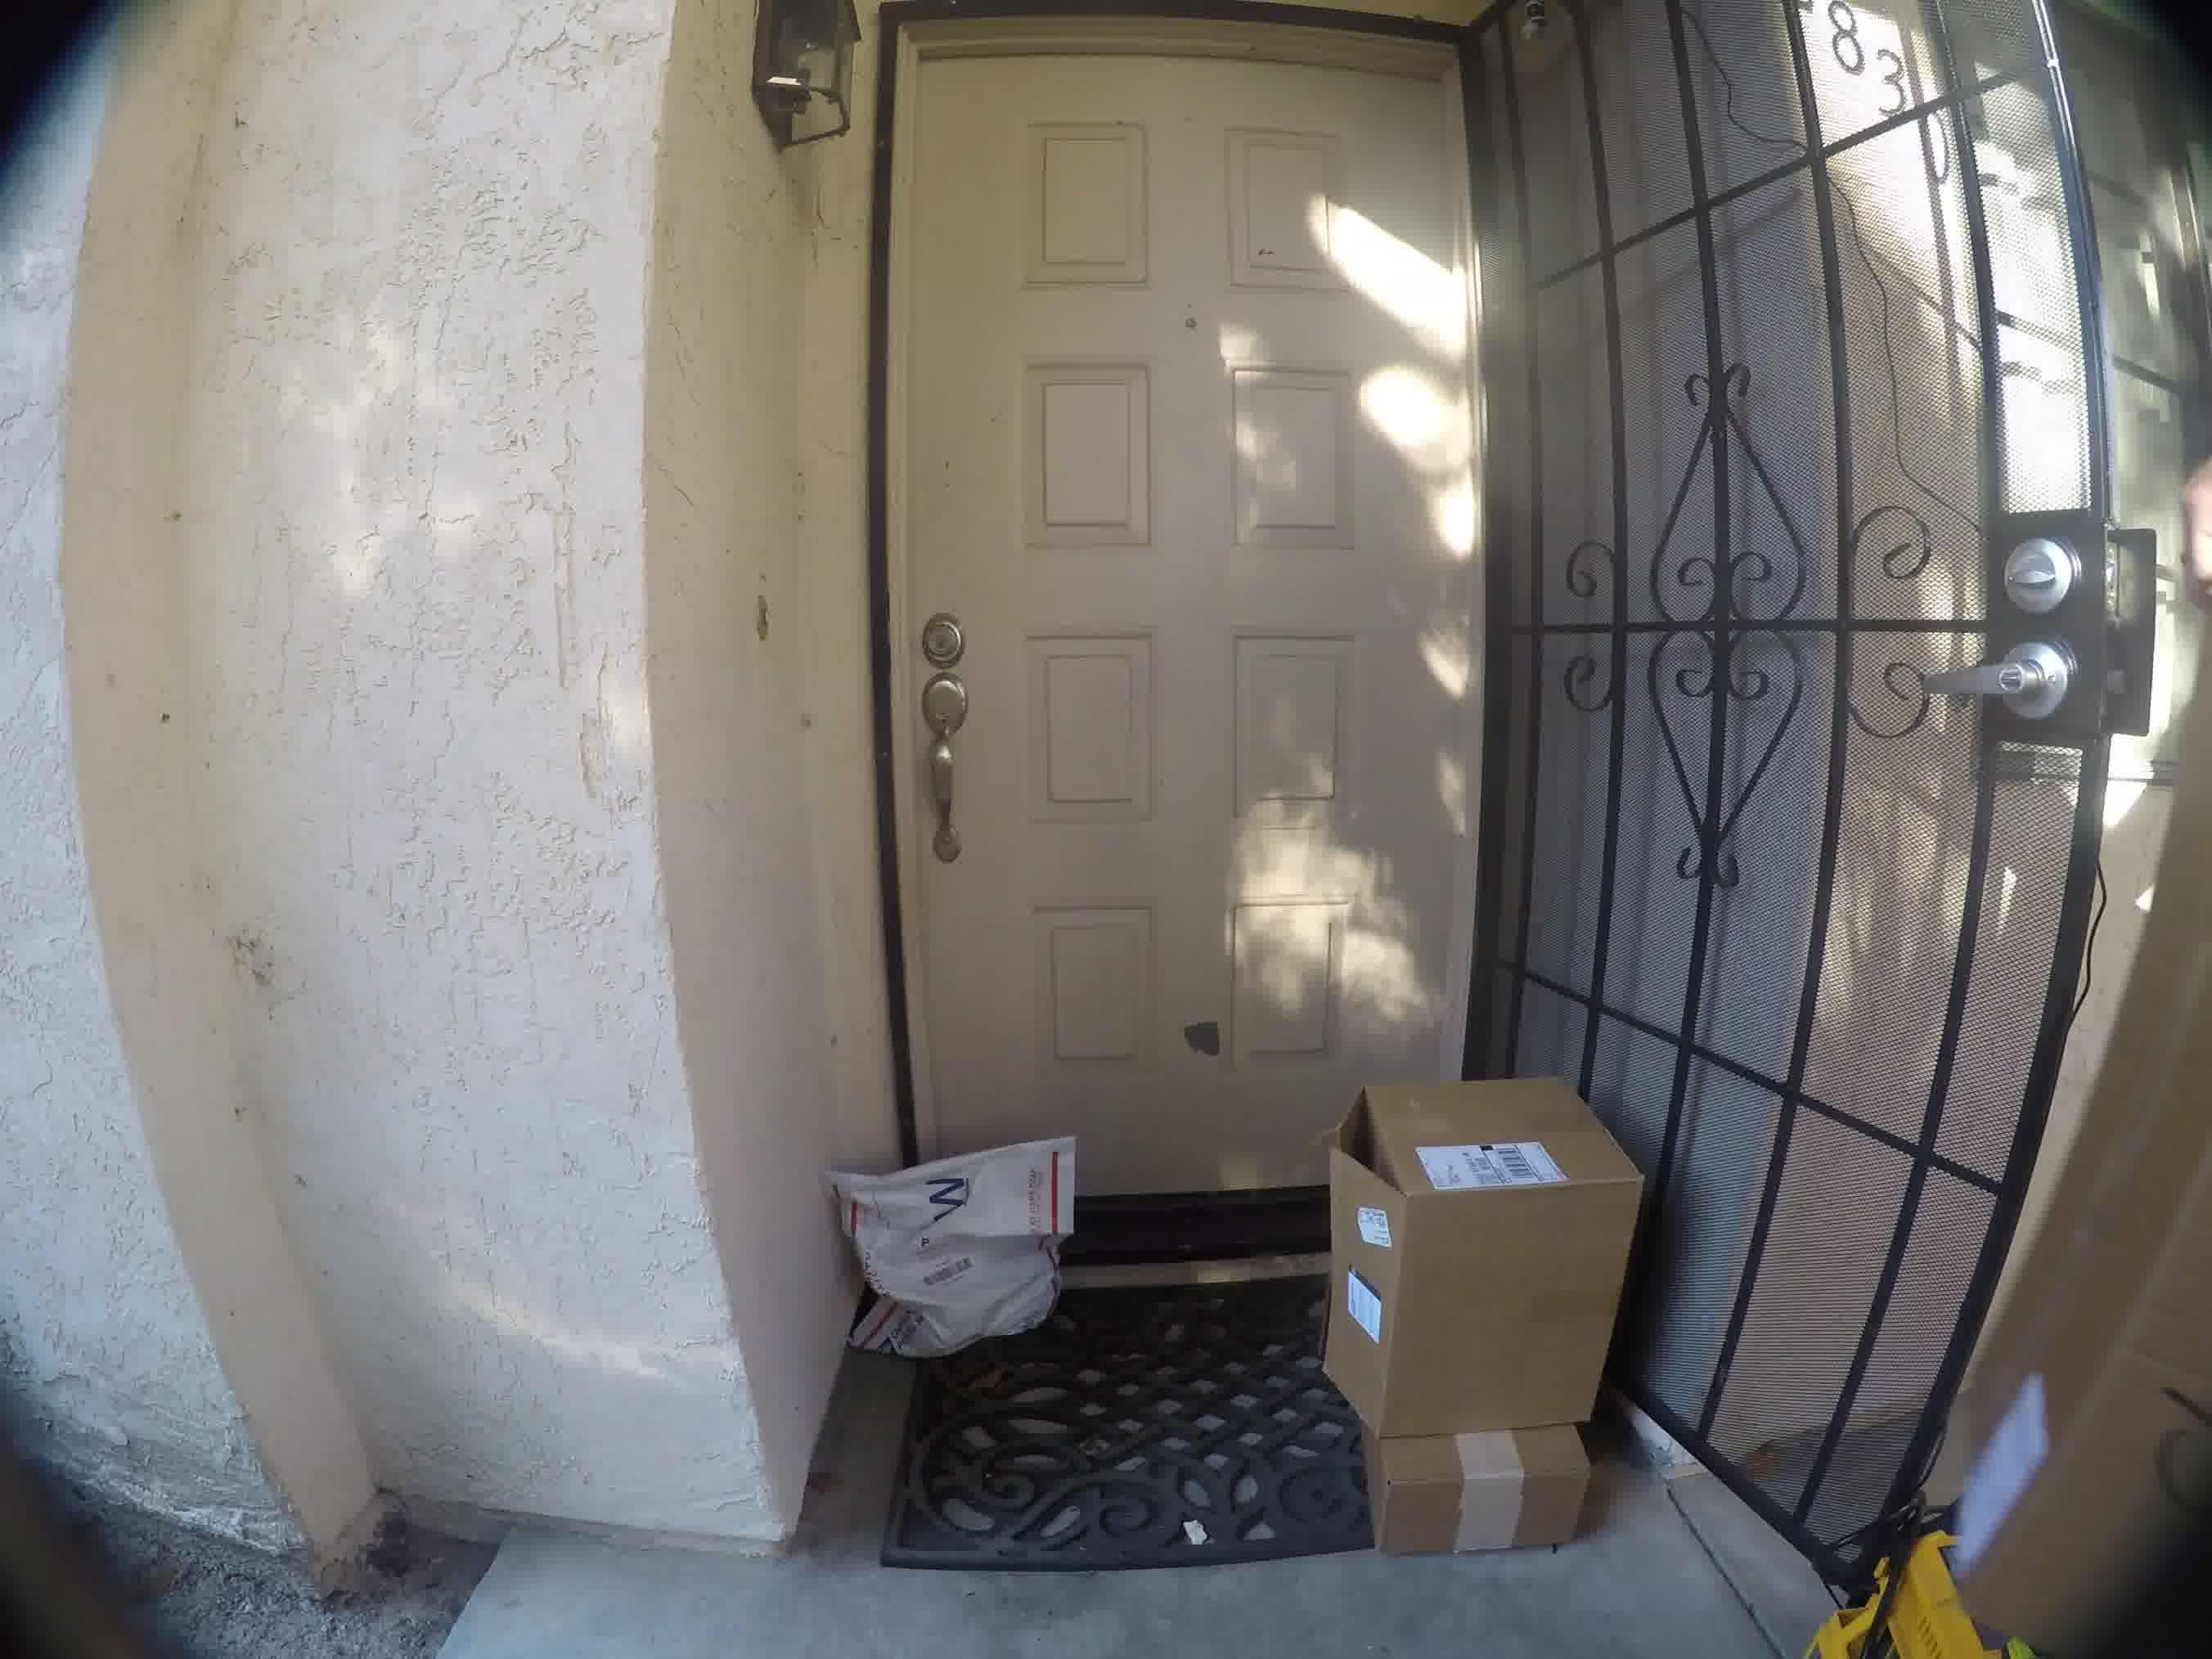box: (1317, 1065, 1651, 1422), (1353, 1422, 1622, 1572)
plastic_bag: (808, 1140, 1073, 1351)
